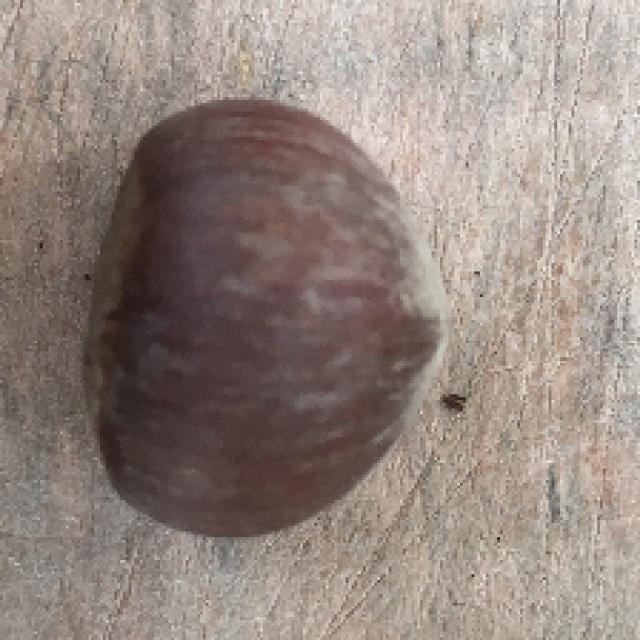damagedHazelnut: (82, 64, 456, 540)
